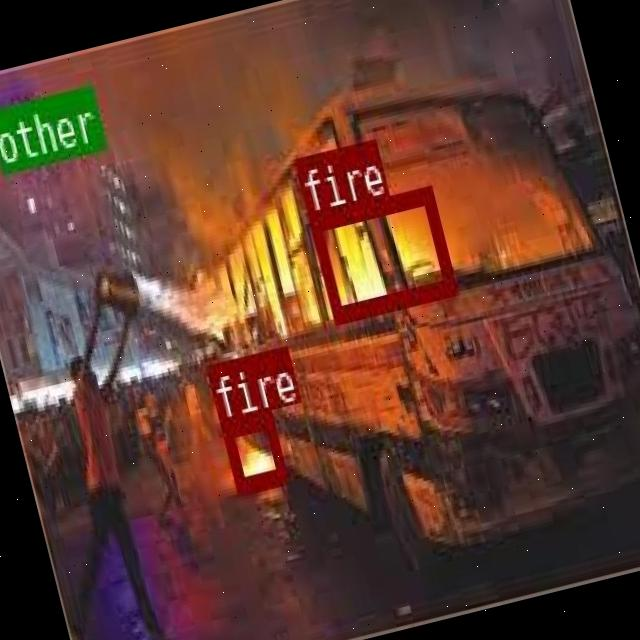fire: (306, 182, 454, 321), (218, 408, 286, 491)
